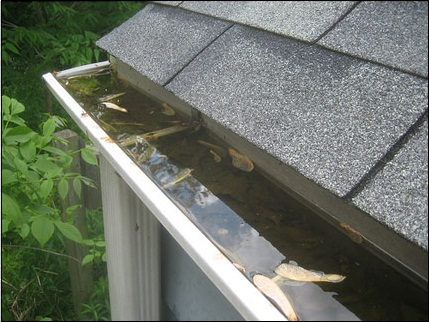water: (217, 192, 429, 322), (102, 90, 186, 154), (128, 110, 212, 174), (152, 134, 236, 198), (171, 150, 255, 214), (185, 171, 269, 235), (64, 64, 136, 121)
